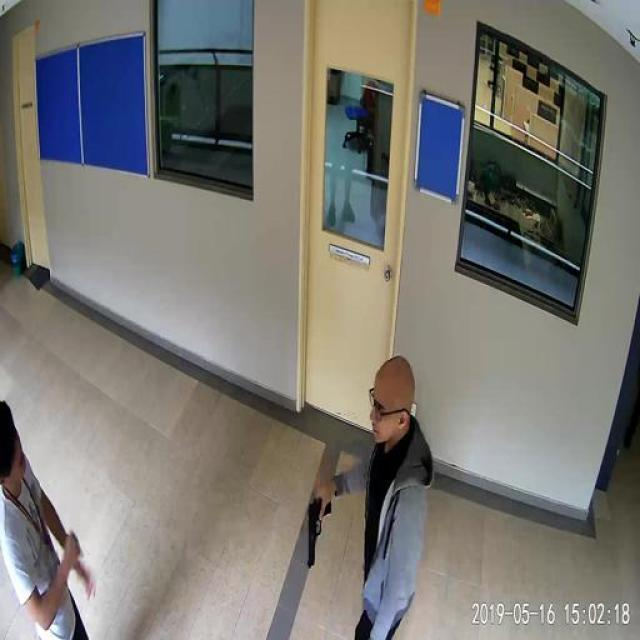Gun: (305, 482, 347, 571)
